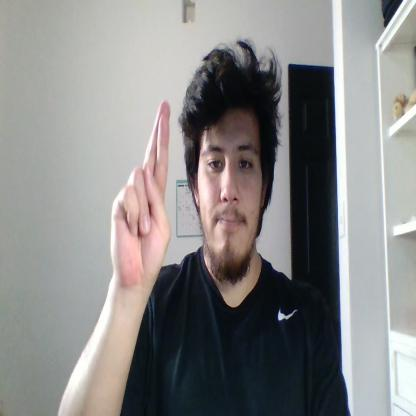R: (110, 98, 171, 290)
